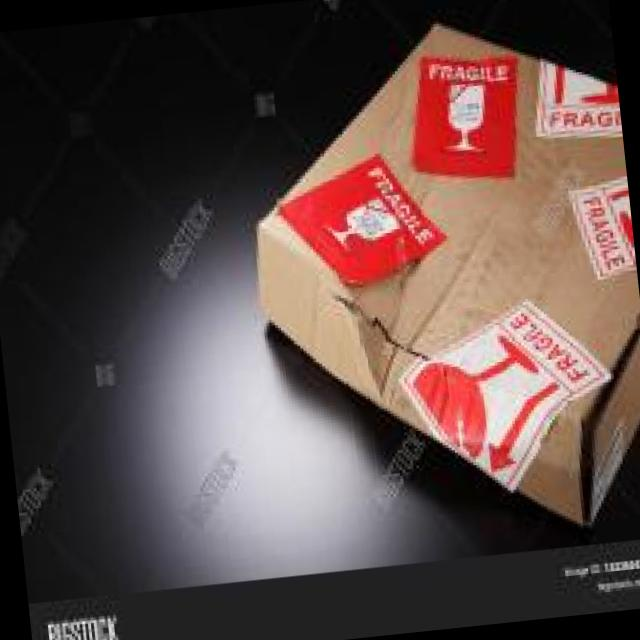box: (257, 22, 640, 526)
crushed: (338, 287, 480, 413)
